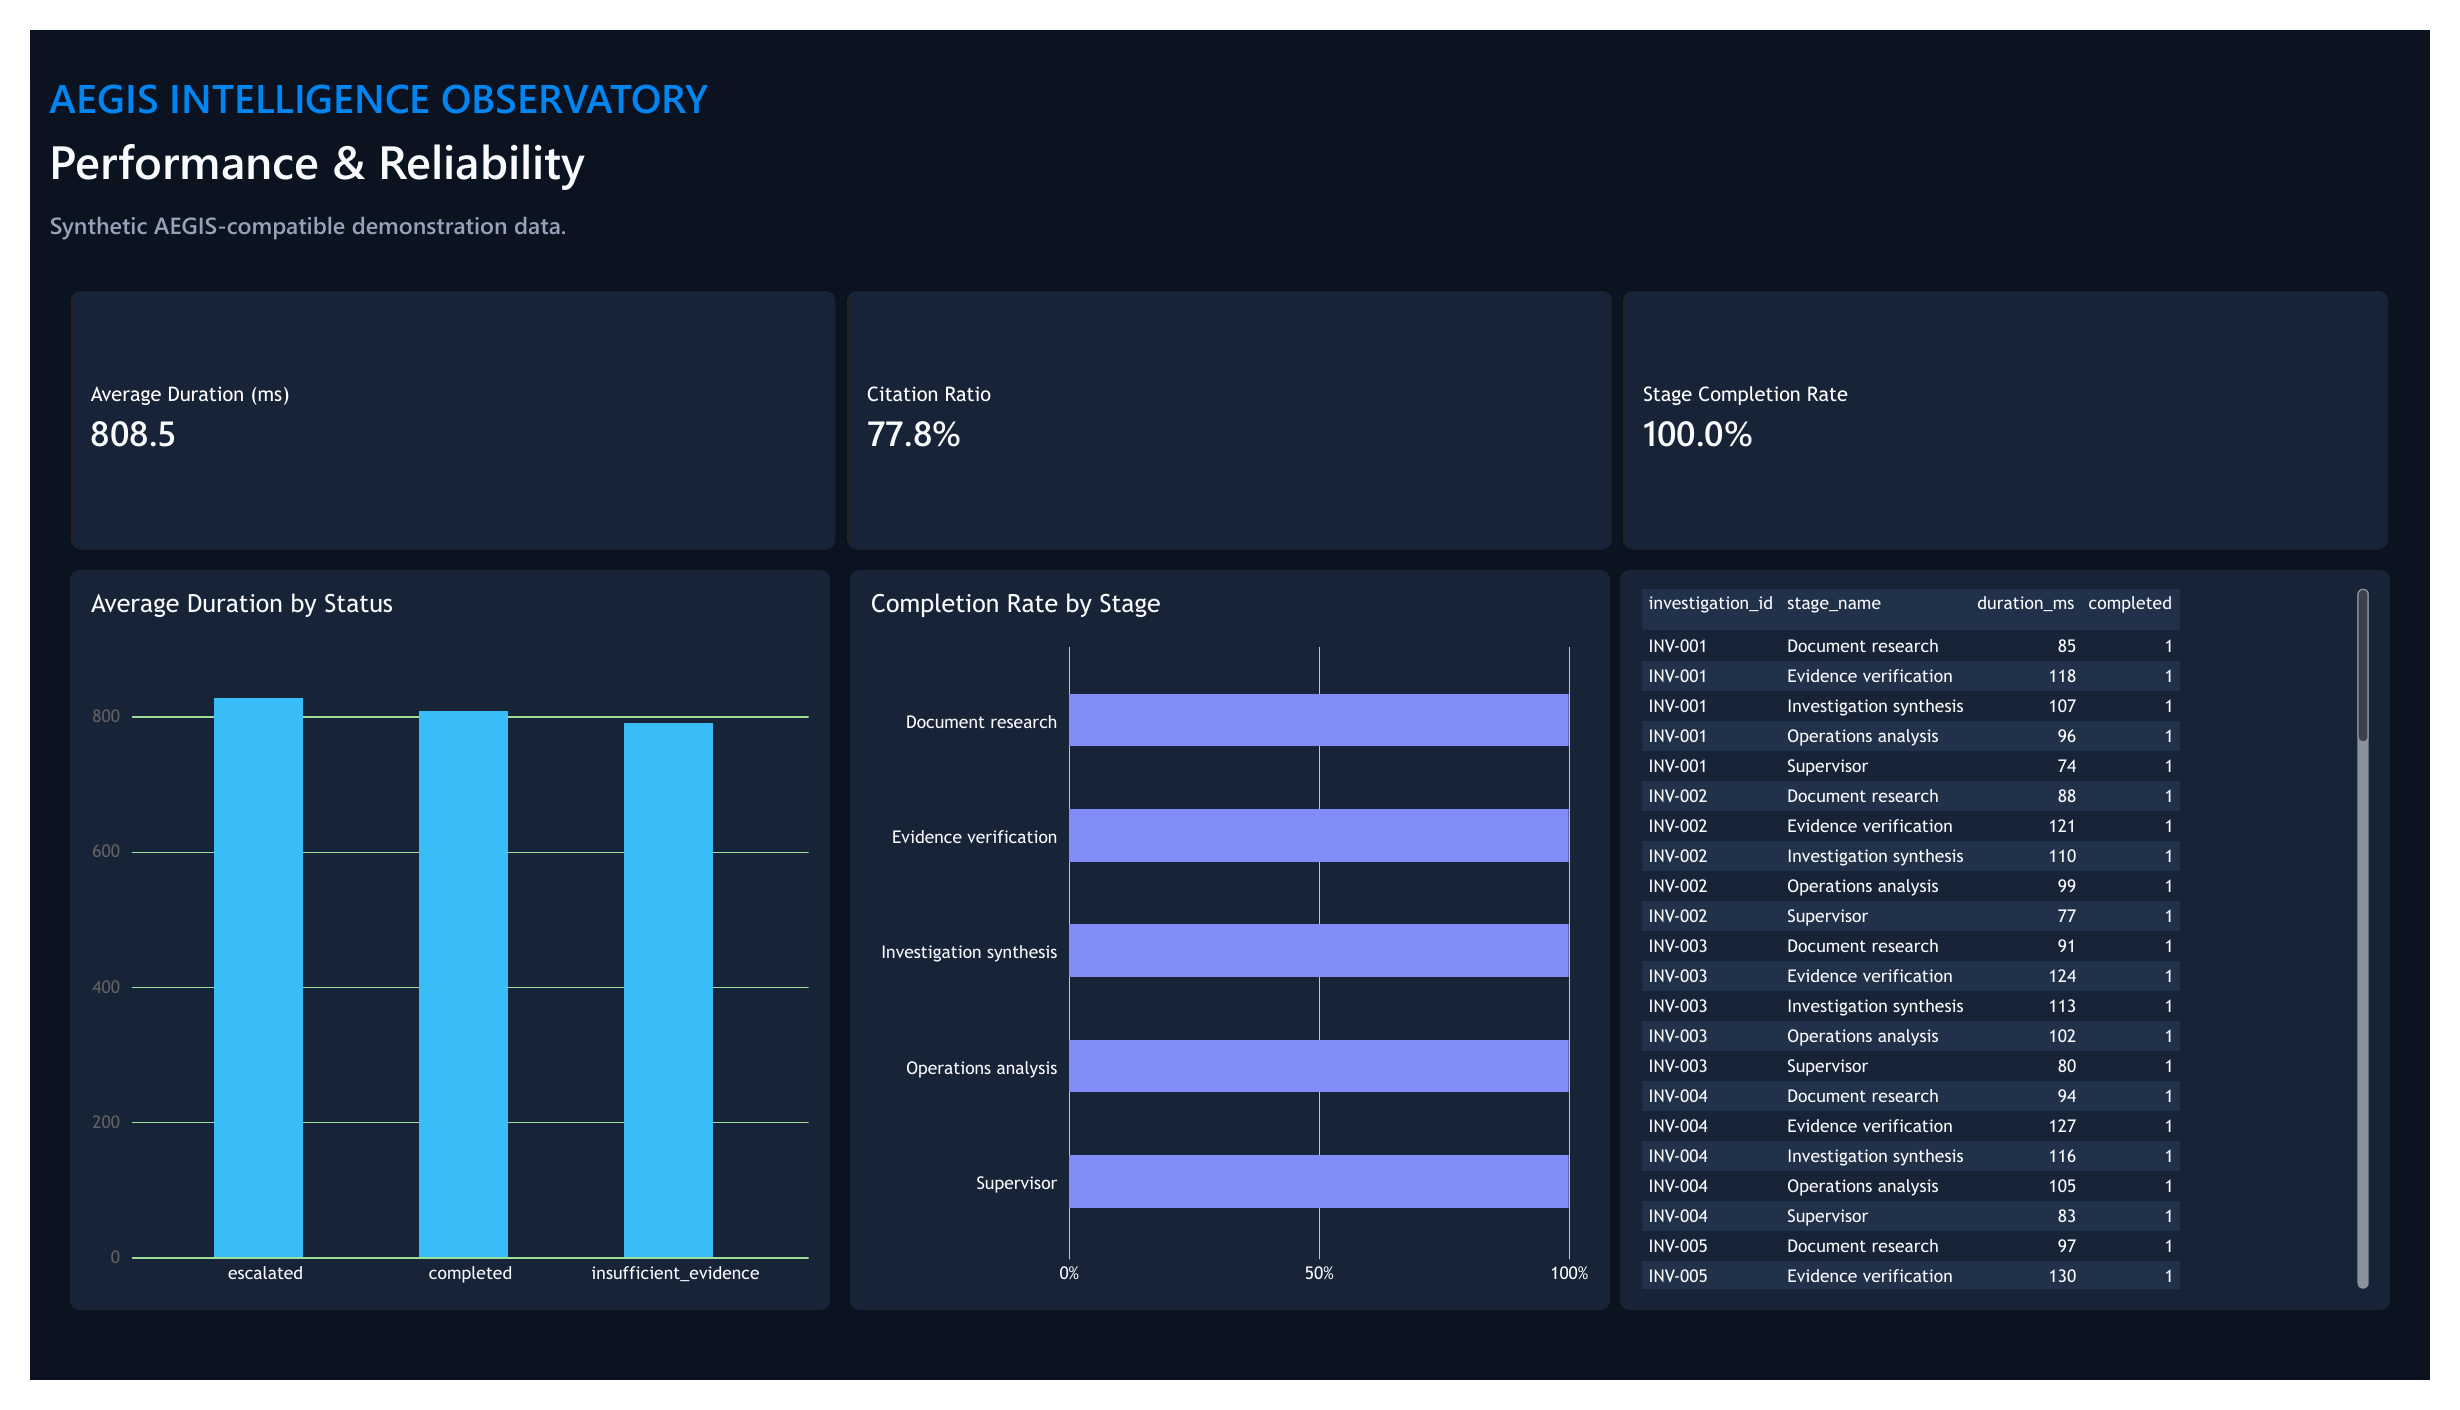

The dashboard page shown, as its layout file describes it:
{"tool":"powerbi","page":{"name":"Performance & Reliability","canvas":[1920,1080],"ordinal":2},"visuals":[{"type":"cardVisual","fields":{"Data":["investigations.Average Duration (ms)","investigations.Citation Ratio","stage_events.Stage Completion Rate"]},"box":[32,208,1856,208],"z":0},{"type":"textbox","box":[16,32,544,48],"z":1000},{"type":"textbox","box":[16,144,416,32],"z":2000},{"type":"textbox","box":[16,80,464,64],"z":3000},{"type":"clusteredColumnChart","title":"Average Duration by Status","fields":{"Category":["investigations.status"],"Y":["investigations.Average Duration (ms)"]},"box":[32,432,608,592],"z":4000},{"type":"clusteredBarChart","title":"Completion Rate by Stage","fields":{"Category":["stage_events.stage_name"],"Y":["stage_events.Stage Completion Rate"]},"box":[656,432,608,592],"z":5000},{"type":"tableEx","title":"Investigation by Retrieval Mode","fields":{"Values":["stage_events.investigation_id","stage_events.stage_name","stage_events.duration_ms","stage_events.completed"]},"box":[1272,432,616,592],"z":6000}]}

Visuals, with their boxes in screenshot pixels (x1, y1, x2, y2), scaled from the page's 1920x1080 canvas onto the 2460x1410 screenshot:
cardVisual - investigations.Average Duration (ms) x investigations.Citation Ratio: select_region(41, 272, 2419, 543)
textbox: select_region(20, 42, 718, 104)
textbox: select_region(20, 188, 554, 230)
textbox: select_region(20, 104, 615, 188)
"Average Duration by Status" clusteredColumnChart: select_region(41, 564, 820, 1337)
"Completion Rate by Stage" clusteredBarChart: select_region(840, 564, 1620, 1337)
"Investigation by Retrieval Mode" tableEx: select_region(1630, 564, 2419, 1337)
